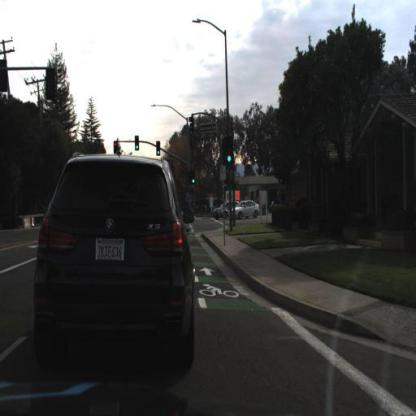car: (30, 146, 201, 378), (229, 199, 261, 222)
trafficLight: (112, 137, 121, 160)
trafficLight-Green: (223, 136, 237, 172), (157, 141, 162, 157), (192, 173, 197, 187), (136, 136, 140, 150)
